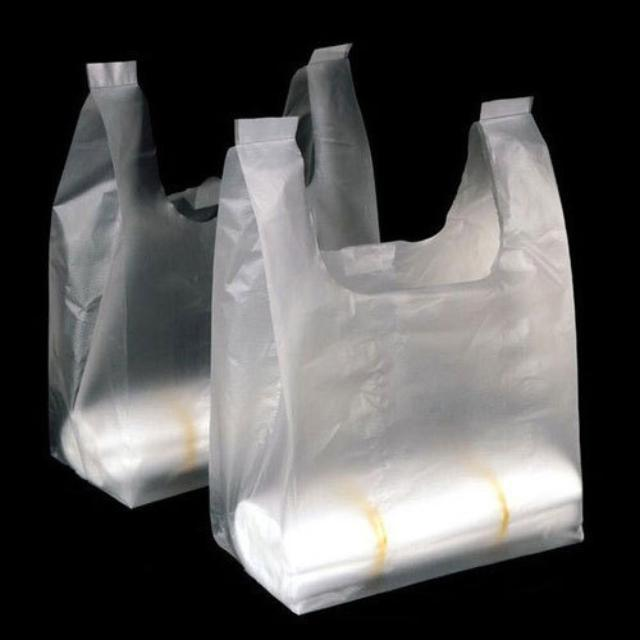plastic: (48, 46, 582, 613)
